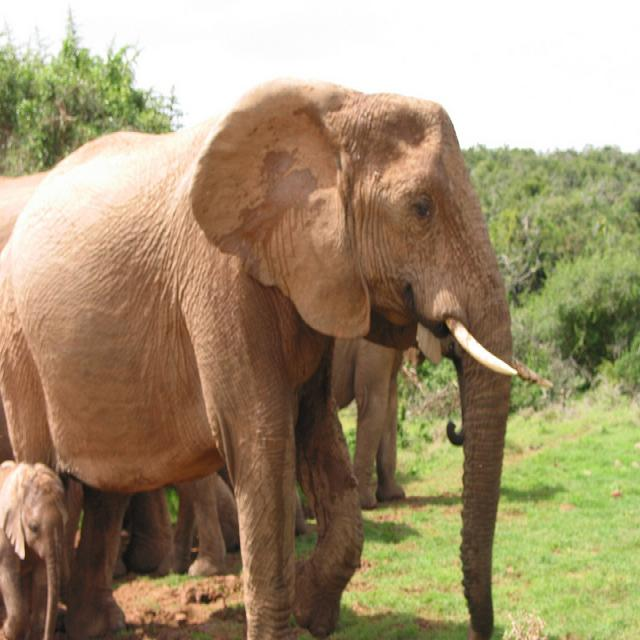Elephant: (0, 76, 524, 639)
